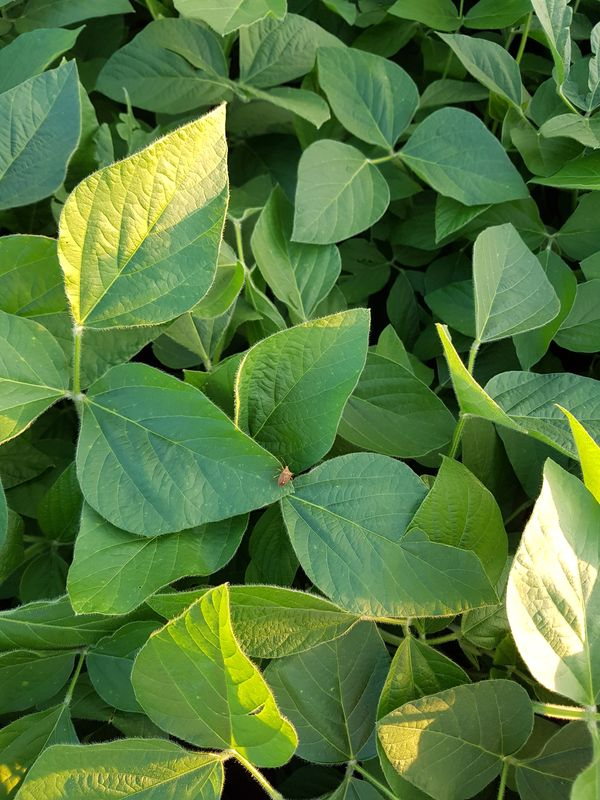Euschistus_heros_adulto: (267, 455, 299, 492)
